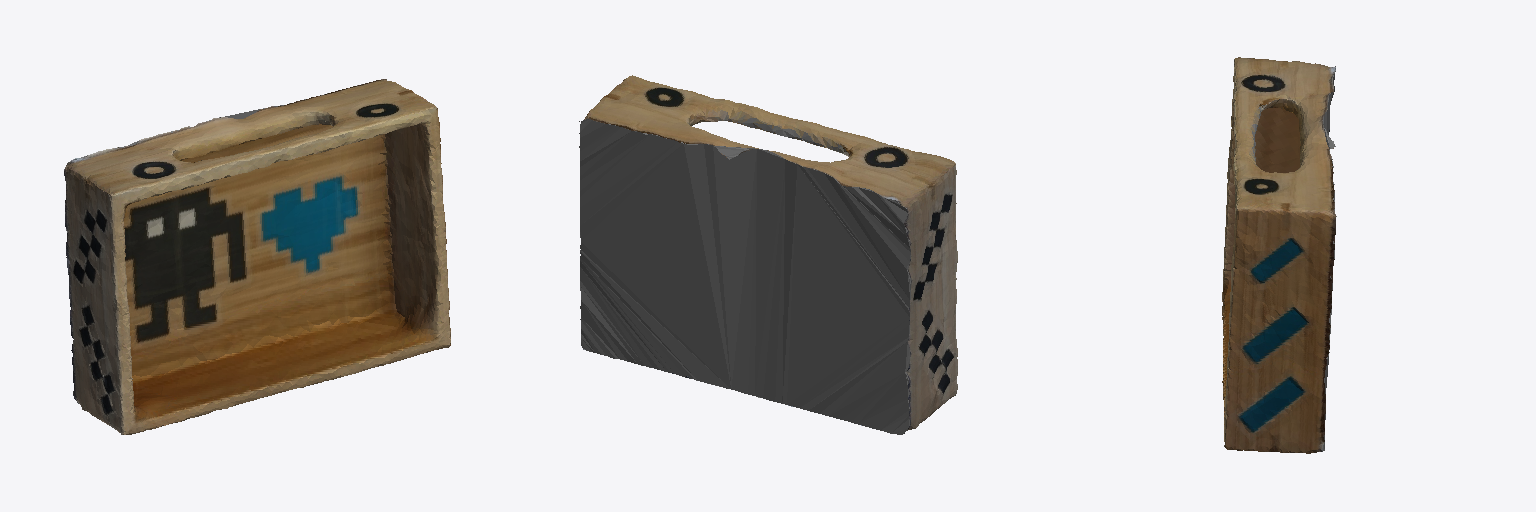
The picture shows the model from 3 angles: view 1: azimuth 30°, elevation 25°; view 2: azimuth 150°, elevation 25°; view 3: azimuth 270°, elevation 25°; orthographic projection.
Size of the model in its own units: 0.1707 by 0.1231 by 0.0509.
Materials: 2 (1 with a texture image).